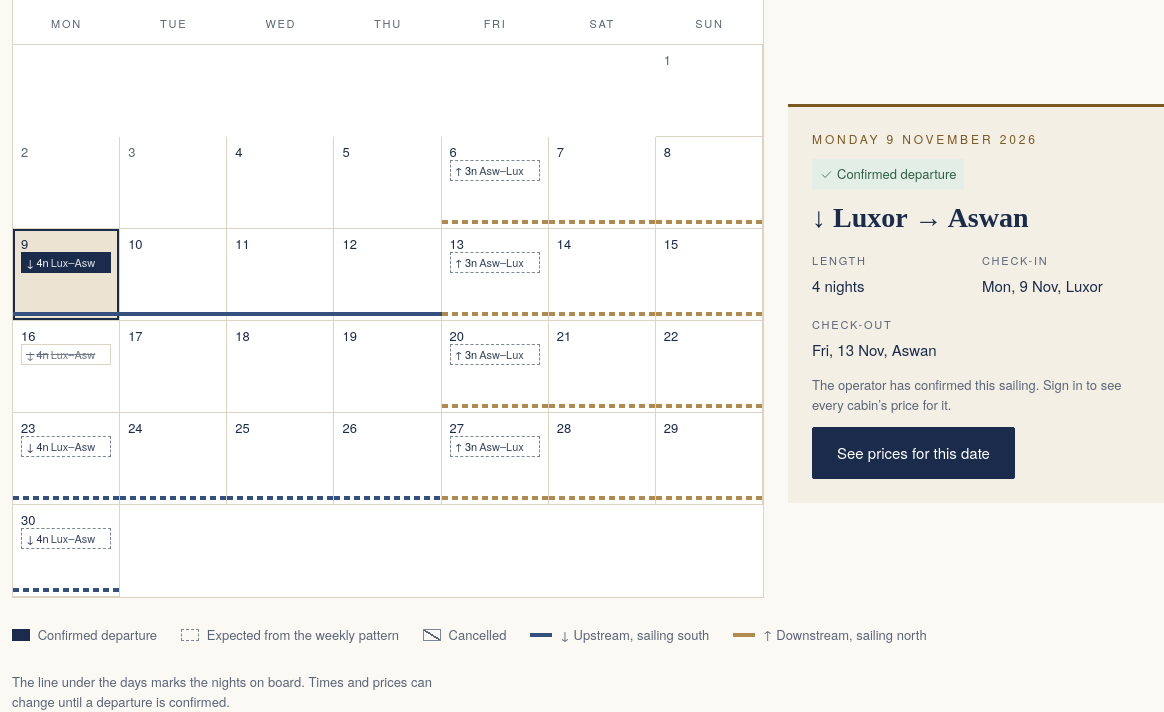
Scenario: SailingCalendar › marks a cancelled sailing in words, with nothing to book or ask
This screenshot has width=1164, height=712.
(page scrolled)
Click the button named "16 November 2026: Luxor → Aswan, 4 nights, Cancelled" at (67, 367), box 13,321 -> 120,413
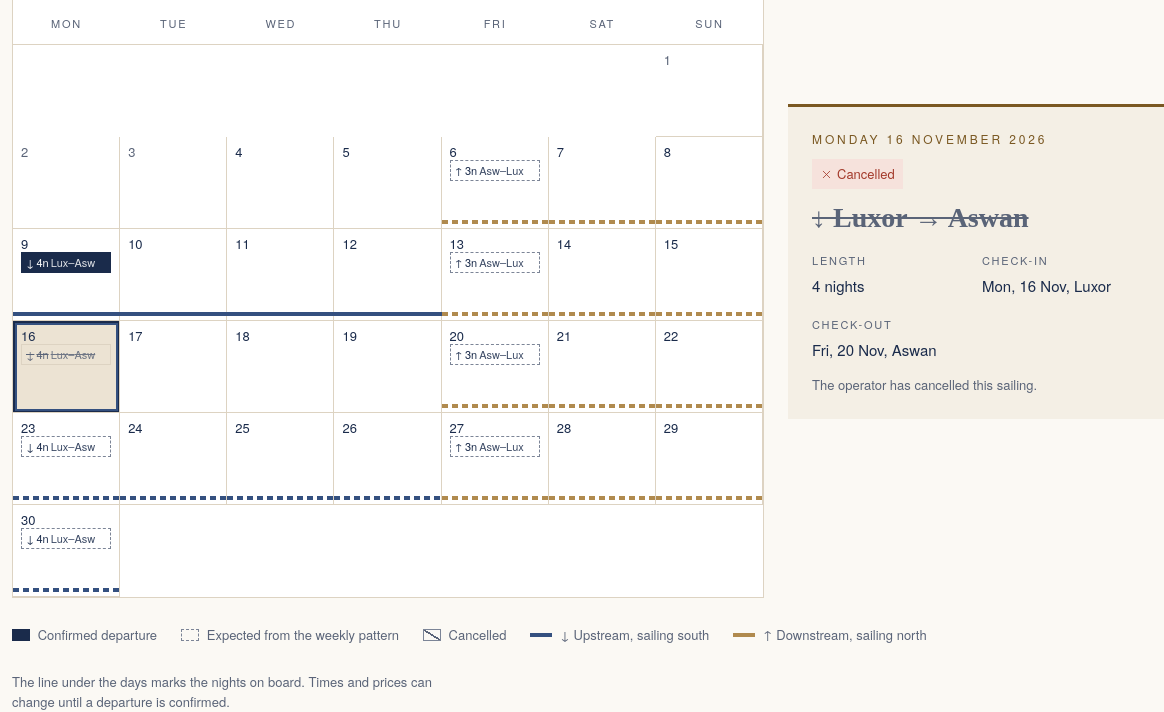
expect the text "The operator has cancelled this sailing." is shown: met, box 812,375 -> 1037,394
expect the link "this date" is gone: met
